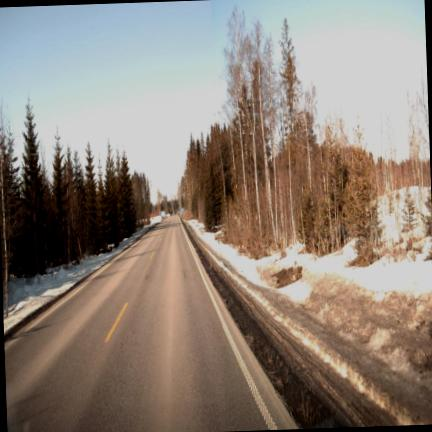Road: (4, 216, 294, 431)
